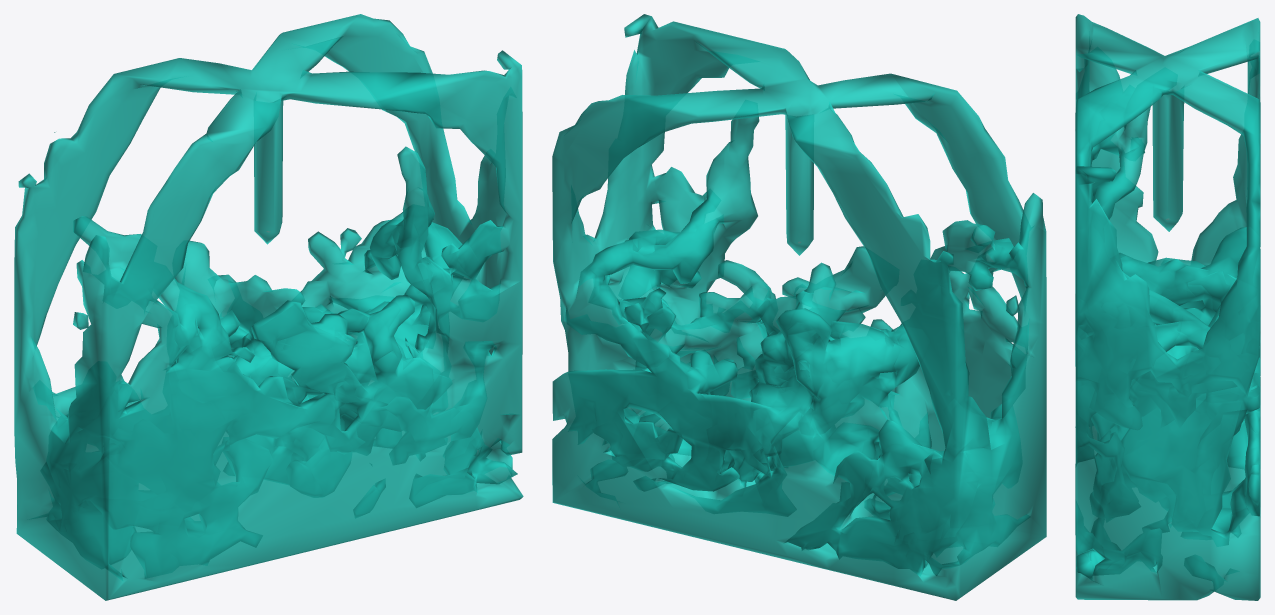
3 views of the same model, side by side, from view 1: azimuth 30°, elevation 25°; view 2: azimuth 150°, elevation 25°; view 3: azimuth 270°, elevation 25° (orthographic). The views are drawn at different scales.
Parts seen in each view (by area): view 1: Liquid_Domain; view 2: Liquid_Domain; view 3: Liquid_Domain.
Part boxes in pixels (x1,y1,x2,y2): Liquid_Domain: (14,14,523,600); Liquid_Domain: (552,14,1046,600); Liquid_Domain: (1075,14,1260,600).
Bounding box in the file's own units: 884 × 884 × 345.
